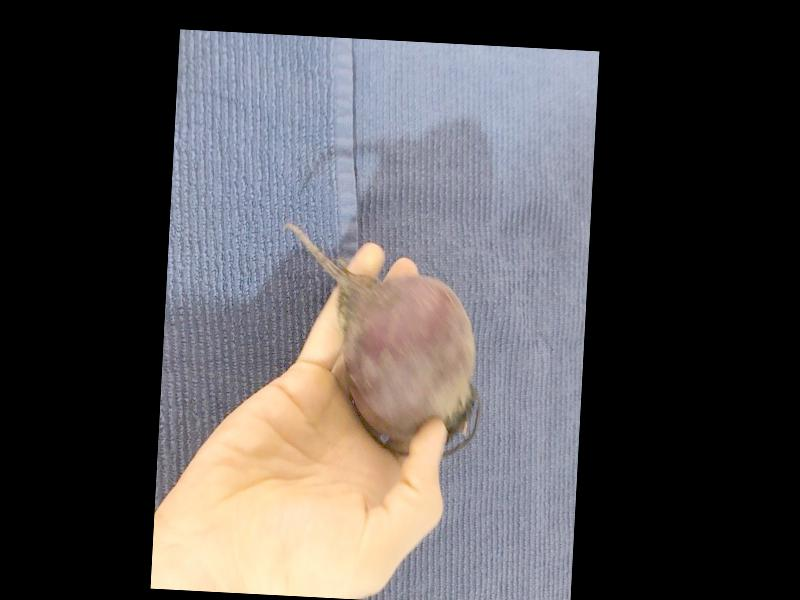Beet: (272, 221, 490, 459)
